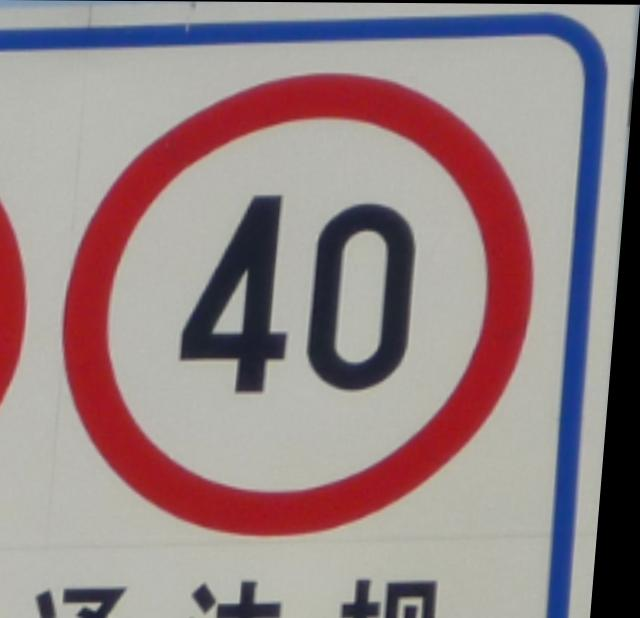limit40: (45, 64, 566, 547)
